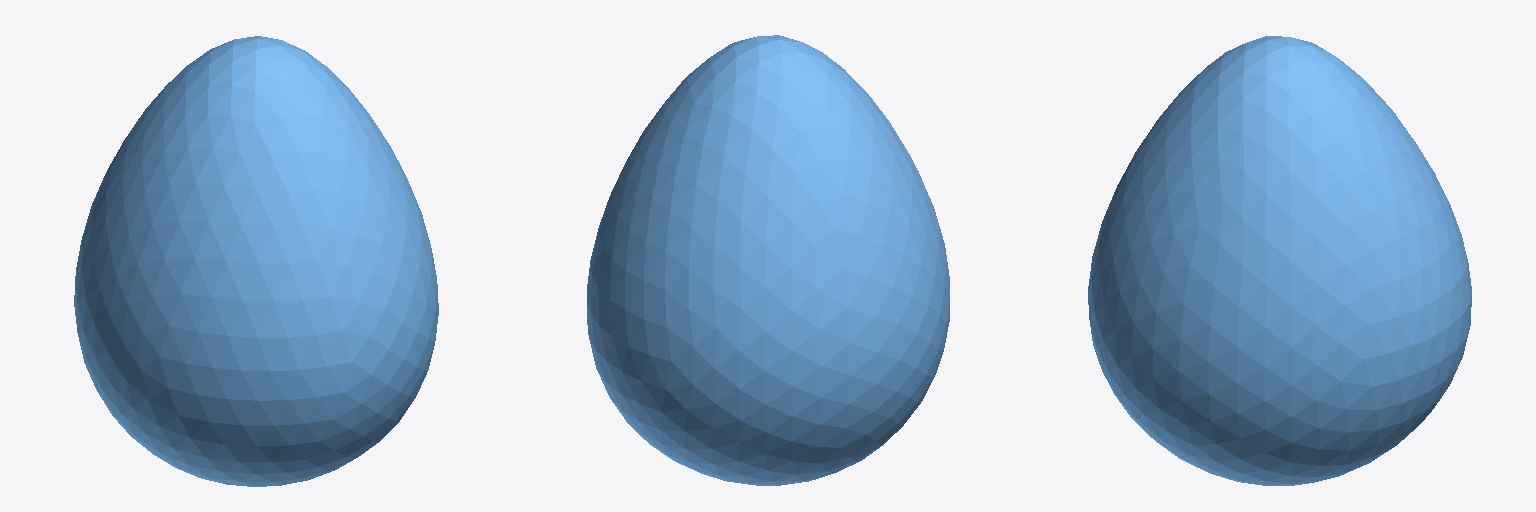
File: balloonBlue.obj
The picture shows the model from 3 angles: view 1: azimuth 30°, elevation 25°; view 2: azimuth 150°, elevation 25°; view 3: azimuth 270°, elevation 25°; orthographic projection.
Visible parts, largest first — view 1: selected_model.osgt_GeoSphere01_Geometry_0; view 2: selected_model.osgt_GeoSphere01_Geometry_0; view 3: selected_model.osgt_GeoSphere01_Geometry_0.
Part boxes in pixels (x1,y1,x2,y2): selected_model.osgt_GeoSphere01_Geometry_0: (74,36,438,486); selected_model.osgt_GeoSphere01_Geometry_0: (587,35,949,485); selected_model.osgt_GeoSphere01_Geometry_0: (1088,36,1471,485).
Size of the model in its own units: 98.45 by 129 by 105.